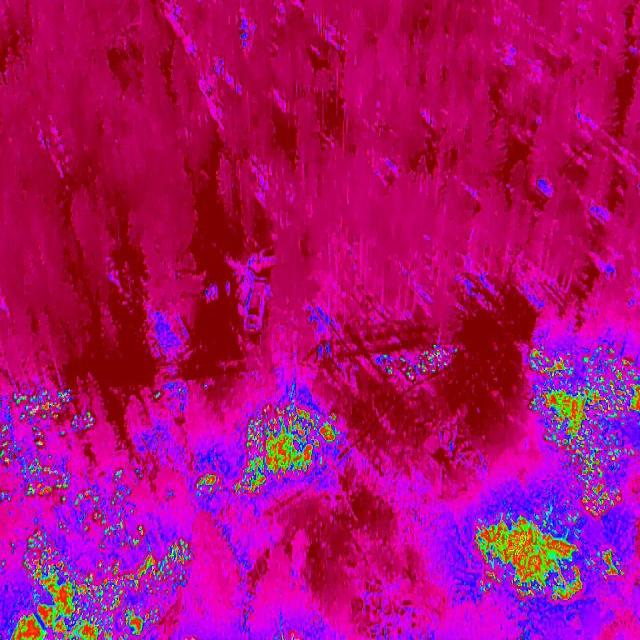fire: (11, 482, 187, 640), (466, 493, 630, 612), (528, 336, 640, 509), (234, 388, 358, 502), (0, 385, 98, 504), (376, 348, 461, 388)
